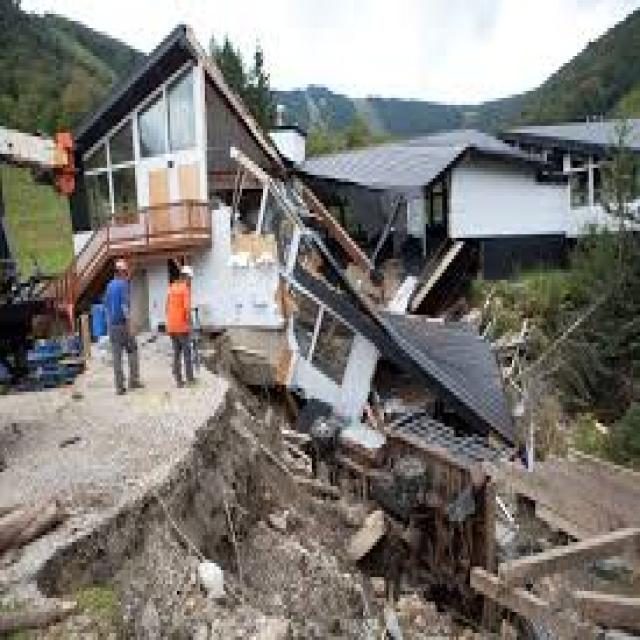Hurricane: (224, 116, 445, 605)
